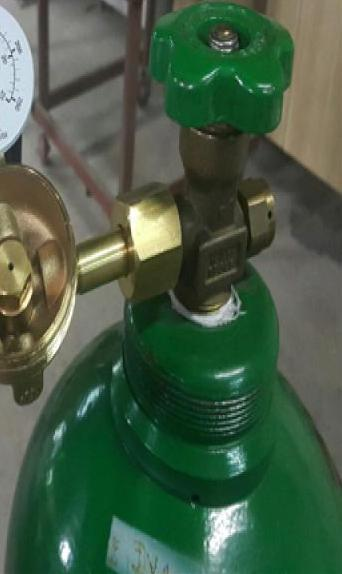cylinder: (0, 1, 342, 574)
